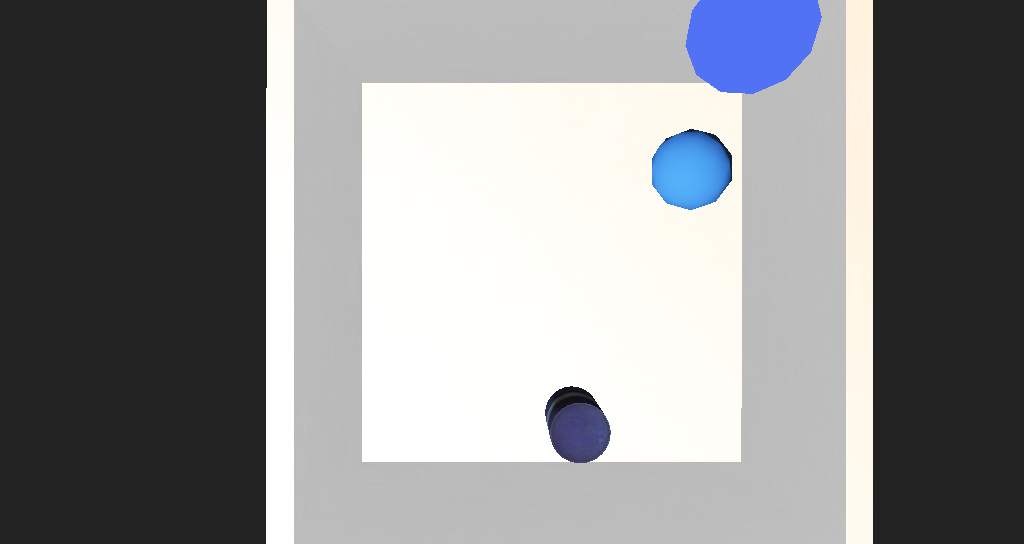cone: (502, 332, 549, 375)
cylinder: (569, 74, 697, 193)
sphere: (579, 186, 647, 234)
